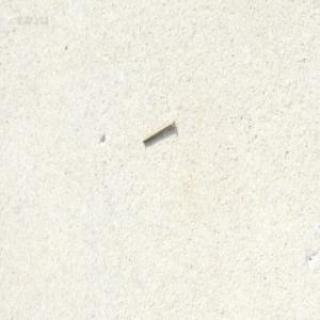Bolttrack_idkeyframe: (142, 117, 174, 144)
